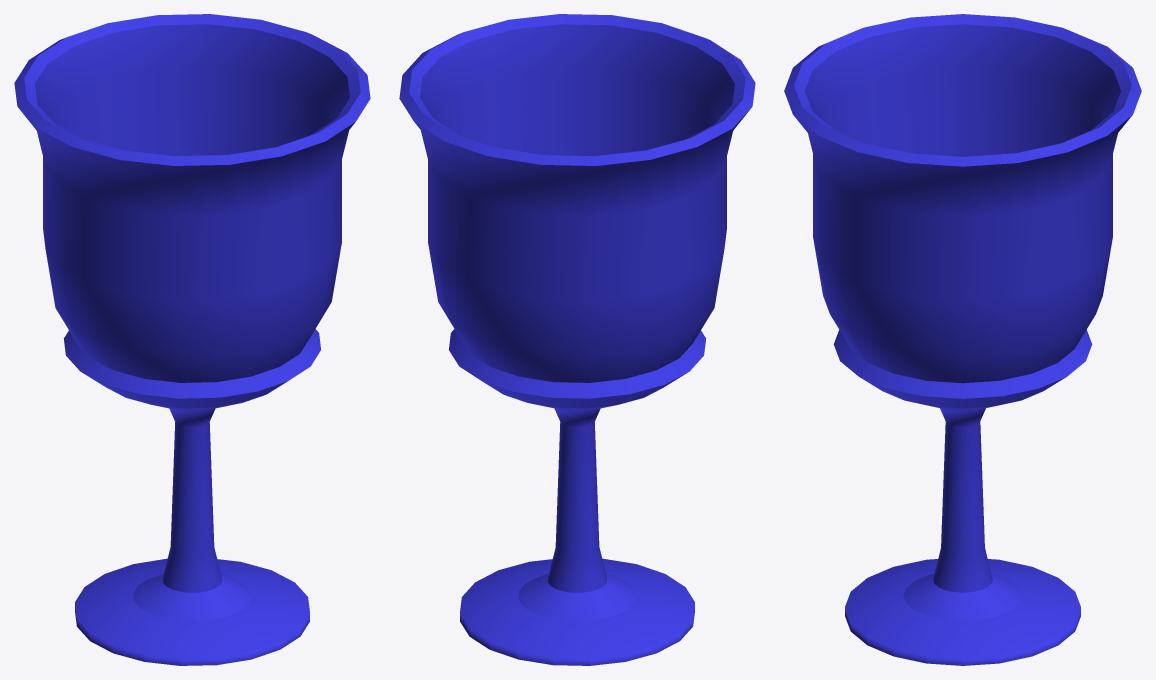
File: SM_Glass.fbx
3 views of the same model, side by side, from view 1: azimuth 30°, elevation 25°; view 2: azimuth 150°, elevation 25°; view 3: azimuth 270°, elevation 25° (orthographic).
Parts seen in each view (by area): view 1: TentaGlassLittle02; view 2: TentaGlassLittle02; view 3: TentaGlassLittle02.
Boxes of the visible parts, x1,y1,x2,y2 form: TentaGlassLittle02: (14,14,370,665); TentaGlassLittle02: (399,14,755,665); TentaGlassLittle02: (784,14,1141,665).
Size of the model in its own units: 0.2424 by 0.3967 by 0.2424.
